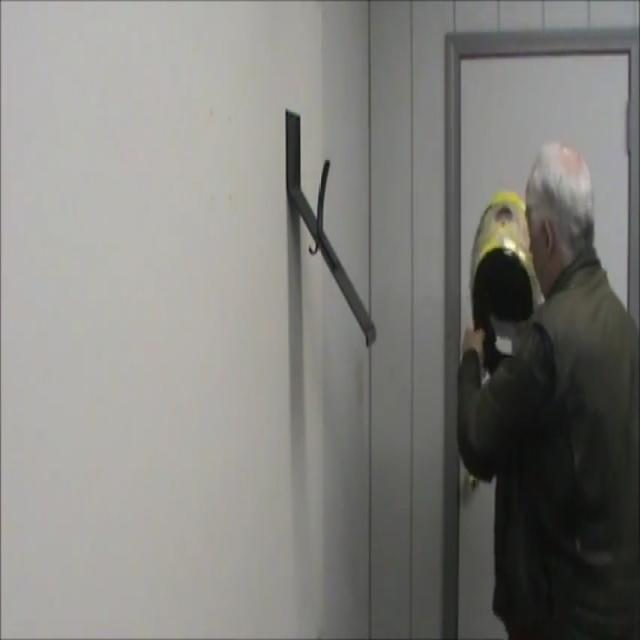Jacket_Wearer: (465, 257, 640, 640)
Person: (460, 141, 639, 640)
